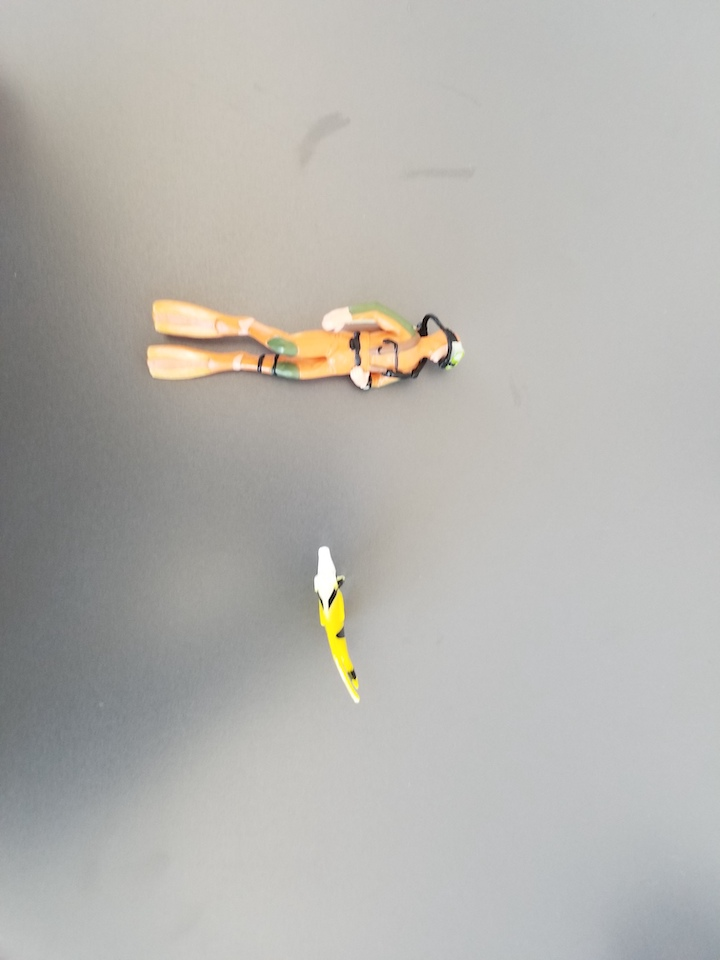danger: (311, 544, 365, 703)
diver: (146, 298, 468, 392)
